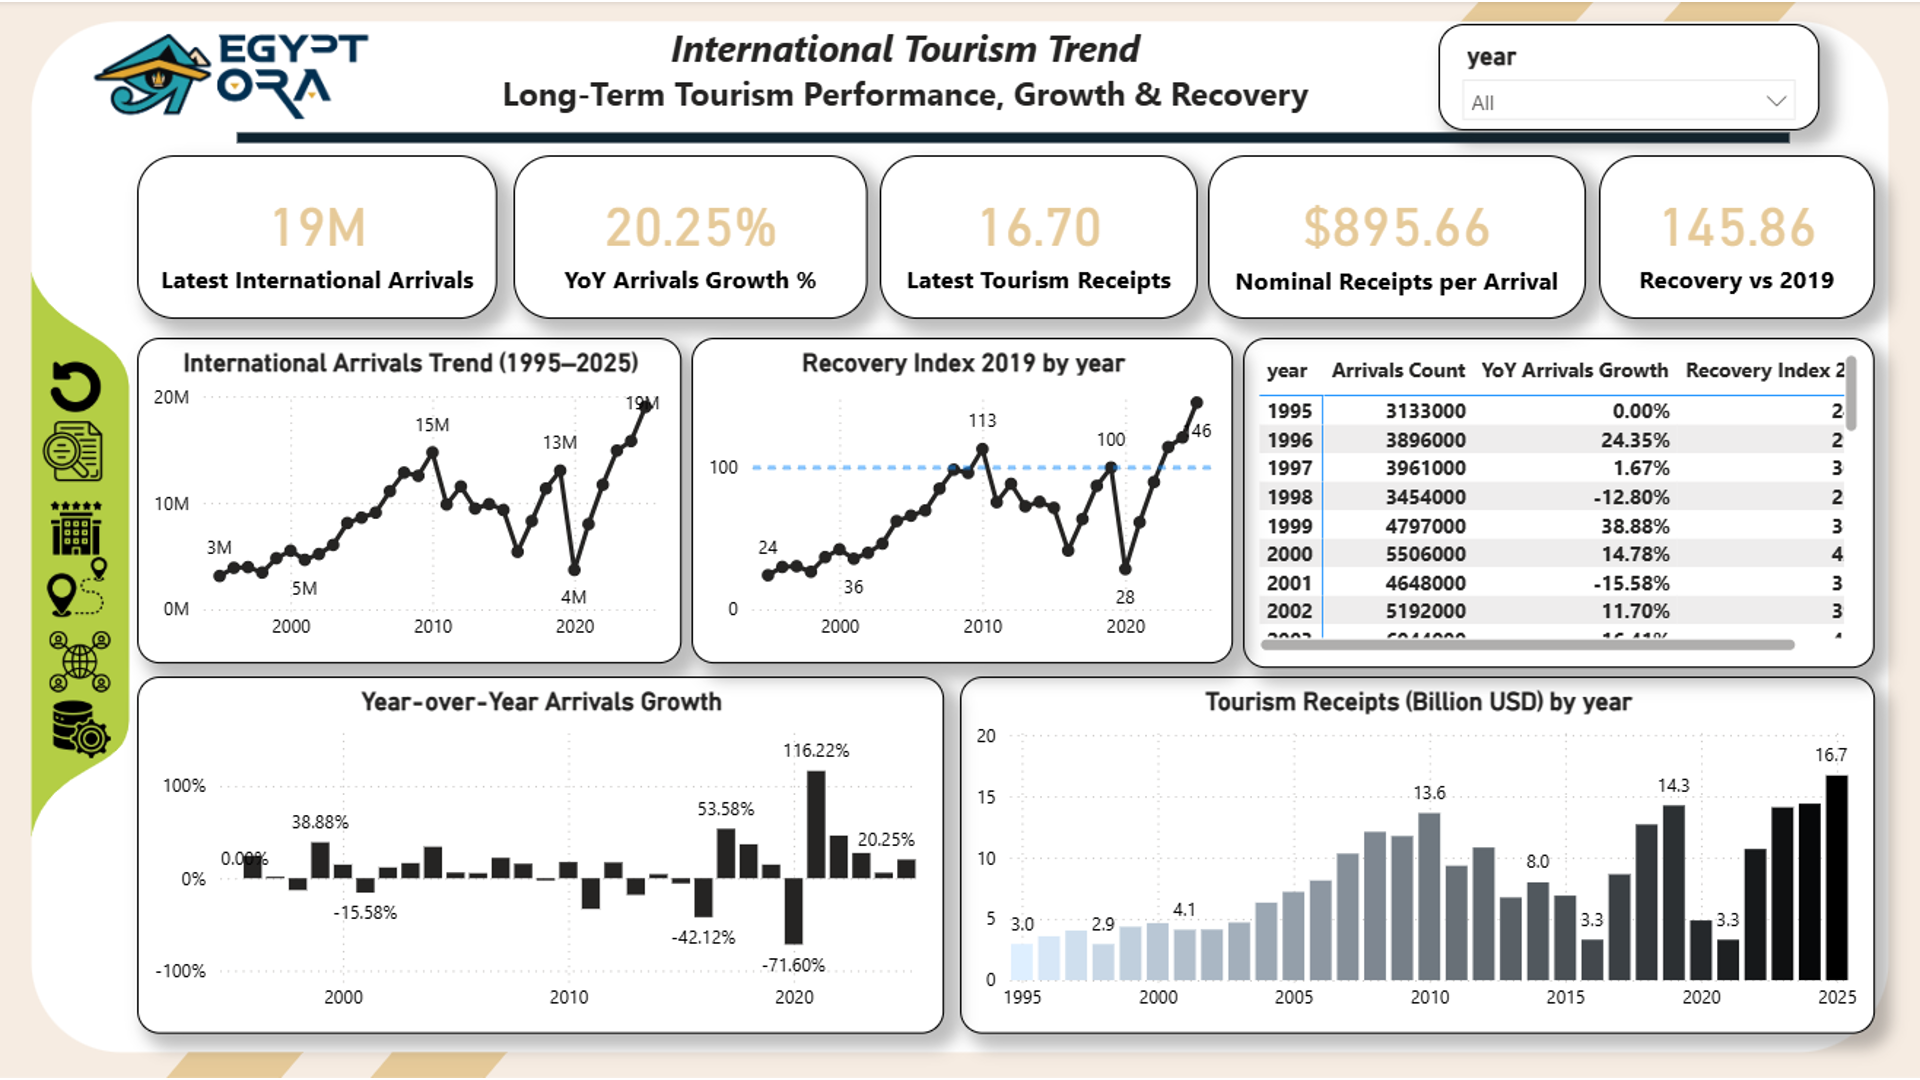

What the dashboard file says about the page in this screenshot:
{"tool":"powerbi","page":{"name":"International Tourism Trend","canvas":[1280,720],"ordinal":1},"visuals":[{"type":"lineChart","title":"International Arrivals Trend (1995–2025)","fields":{"Category":["Tourism annual.year"],"Y":["_Key Measures (1).Arrivals Count"]},"box":[91.4,224.7,362.8,216.9],"z":0},{"type":"clusteredColumnChart","fields":{"Category":["Tourism annual.year"],"Y":["_Key Measures (1).Tourism Receipts (Billion USD)"]},"box":[640,450.3,609.8,238.3],"z":1000},{"type":"pivotTable","fields":{"Rows":["Tourism annual.year"],"Values":["_Key Measures (1).Arrivals Count","_Key Measures (1).YoY Arrivals Growth %","_Key Measures (1).Recovery Index 2019"]},"box":[828.9,224.5,420.7,220.3],"z":2000},{"type":"card","title":"Latest International Arrivals","fields":{"Values":["_Key Measures (1).Latest International Arrivals"]},"box":[91.4,103.1,240.2,108.9],"z":3000},{"type":"card","title":"Latest International Arrivals","fields":{"Values":["_Key Measures (1).YoY Arrivals Growth"]},"box":[342.4,103.1,236.4,108.9],"z":4000},{"type":"card","title":"Latest International Arrivals","fields":{"Values":["_Key Measures (1).Latest Tourism Receipts"]},"box":[586.5,103.1,212,108.9],"z":5000},{"type":"card","title":"Latest International Arrivals","fields":{"Values":["_Key Measures (1).Receipts per Arrival USD"]},"box":[805.8,102.8,251.8,109.1],"z":6000},{"type":"textbox","box":[266.9,9.8,665,93.1],"z":7000},{"type":"card","title":"Latest International Arrivals","fields":{"Values":["_Key Measures (1).Recovery vs 2019 %"]},"box":[1066,103.1,183.8,108.9],"z":8000},{"type":"clusteredColumnChart","title":"Year-over-Year Arrivals Growth","fields":{"Category":["Tourism annual.year"],"Y":["_Key Measures (1).YoY Arrivals Growth"]},"box":[91.4,450.3,537.9,238.3],"z":9000},{"type":"lineChart","fields":{"Category":["Tourism annual.year"],"Y":["_Key Measures (1).Recovery Index 2019"]},"box":[461,224.7,360.9,216.9],"z":10000},{"type":"slicer","fields":{"Values":["Tourism annual.year"]},"box":[959,15.6,253.9,71],"z":11000},{"type":"image","box":[23.7,275.3,50.1,50.1],"z":12000},{"type":"image","box":[27.4,412.5,52,55.8],"z":13000},{"type":"image","box":[21.8,366.1,60.5,50.1],"z":14000},{"type":"image","box":[23.7,325.4,55.8,51.1],"z":15000},{"type":"image","box":[27.4,459.8,55.8,51.1],"z":16000},{"type":"image","box":[14.2,0,273.1,96.7],"z":17000},{"type":"image","box":[17.7,224.3,67.4,51.4],"z":18000}]}

Visuals, with their boxes in screenshot pixels (x1, y1, x2, y2), scaled from the page's 1280x720 canvas onto the 1920x1080 screenshot:
"International Arrivals Trend (1995–2025)" lineChart: 137/337/681/662
clusteredColumnChart - Tourism annual.year x _Key Measures (1).Tourism Receipts (Billion USD): 960/675/1875/1033
pivotTable - Tourism annual.year x _Key Measures (1).Arrivals Count: 1243/337/1874/667
"Latest International Arrivals" card: 137/155/497/318
"Latest International Arrivals" card: 514/155/868/318
"Latest International Arrivals" card: 880/155/1198/318
"Latest International Arrivals" card: 1209/154/1586/318
textbox: 400/15/1398/154
"Latest International Arrivals" card: 1599/155/1875/318
"Year-over-Year Arrivals Growth" clusteredColumnChart: 137/675/944/1033
lineChart - Tourism annual.year x _Key Measures (1).Recovery Index 2019: 692/337/1233/662
slicer - Tourism annual.year: 1438/23/1819/130
image: 36/413/111/488
image: 41/619/119/702
image: 33/549/123/624
image: 36/488/119/565
image: 41/690/125/766
image: 21/0/431/145
image: 27/336/128/414
